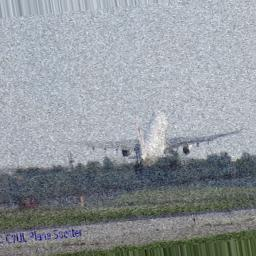Airplane: (64, 111, 242, 173)
